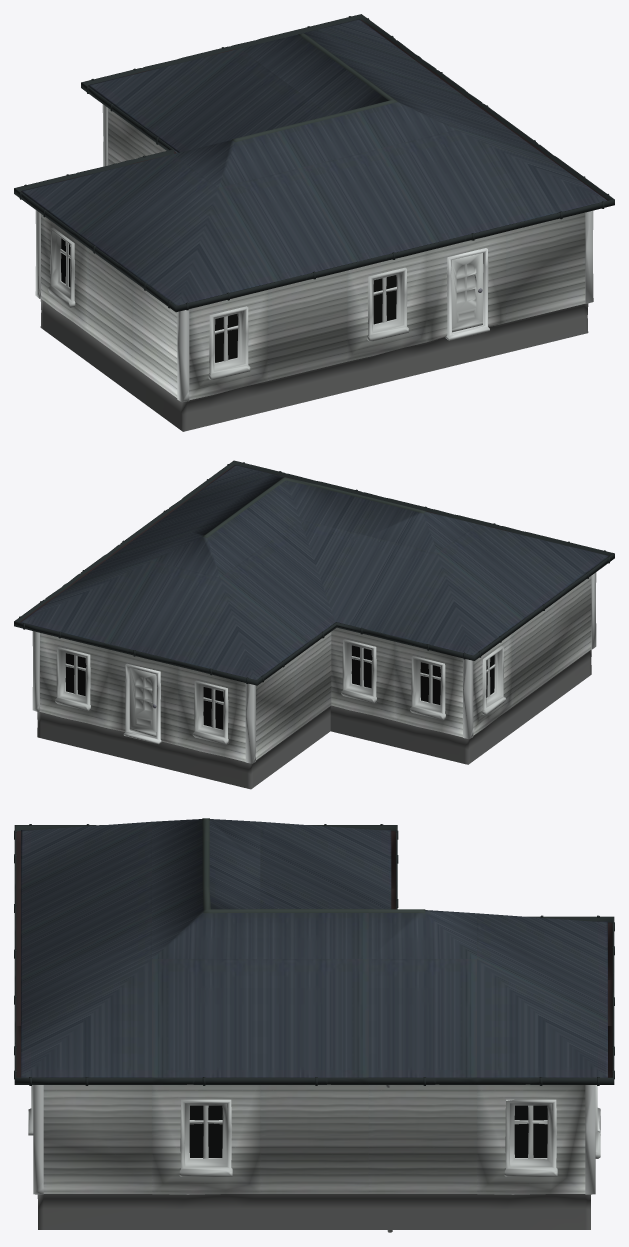
Rendered from v2-buildings-suburban-SM_Bld_House_Preset_03_1800.glb.
3 renders of one model, top to bottom at view 1: azimuth 30°, elevation 25°; view 2: azimuth 150°, elevation 25°; view 3: azimuth 270°, elevation 25°, orthographic. The views are drawn at different scales.
Parts seen in each view (by area): view 1: suburban-house_1; view 2: suburban-house_1; view 3: suburban-house_1.
Boxes of the visible parts, <box> form: suburban-house_1: <box>14,14,614,431</box>; suburban-house_1: <box>14,460,614,789</box>; suburban-house_1: <box>14,818,614,1232</box>.
Size of the model in its own units: 13.87 by 6.46 by 13.87.
1 material, 1 textured.
